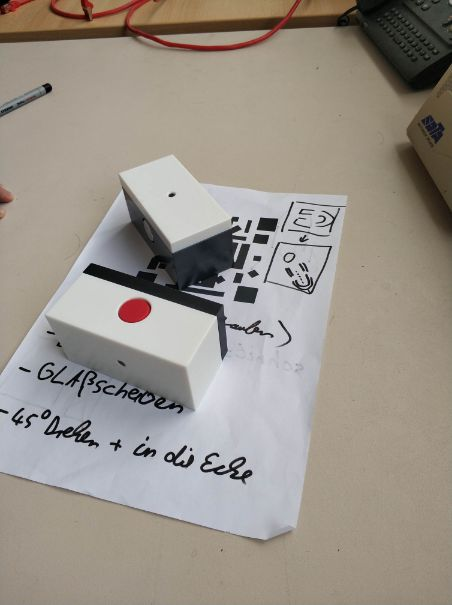black+white+red: (45, 261, 231, 413)
white+black+silver: (116, 151, 238, 294)
